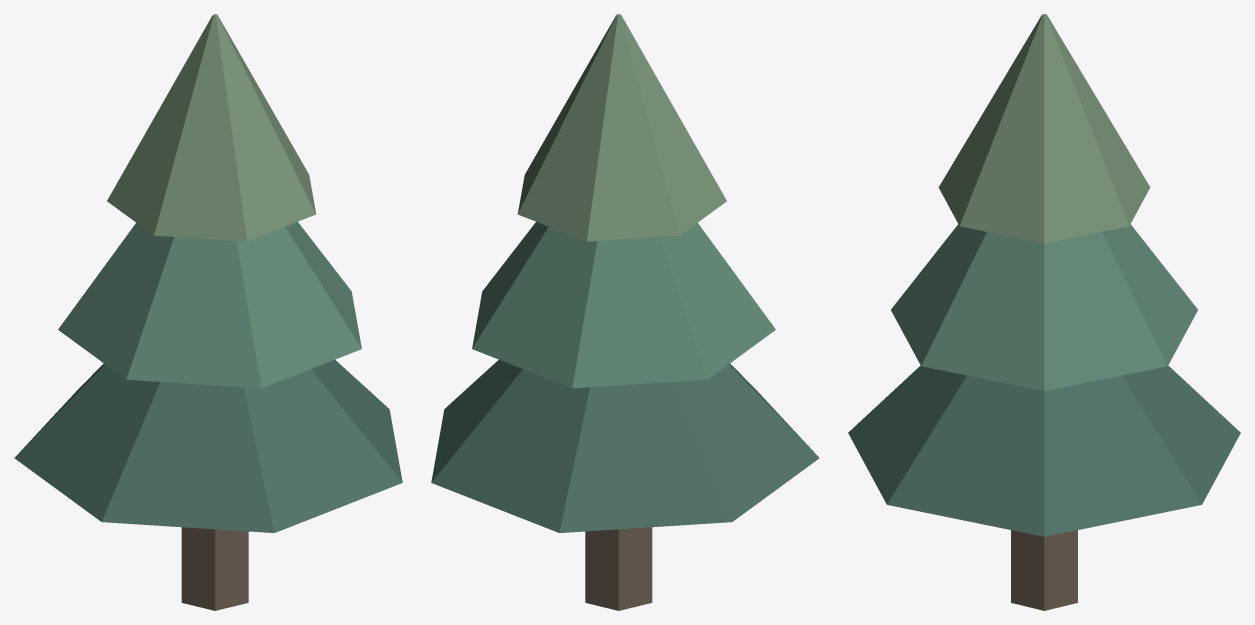
Rendered from pine_tree.glb.
The picture shows the model from 3 angles, left to right: view 1: azimuth 30°, elevation 25°; view 2: azimuth 150°, elevation 25°; view 3: azimuth 270°, elevation 25°; orthographic projection.
Parts seen in each view (by area): view 1: pine_tree; view 2: pine_tree; view 3: pine_tree.
Boxes of the visible parts, <box> form: pine_tree: <box>14,14,402,610</box>; pine_tree: <box>431,14,819,610</box>; pine_tree: <box>848,14,1240,610</box>.
Bounding box in the file's own units: 2.19 × 3.65 × 2.24.
